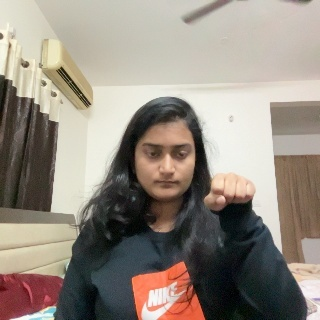Face: (133, 117, 199, 212)
Yes: (207, 169, 256, 234)
